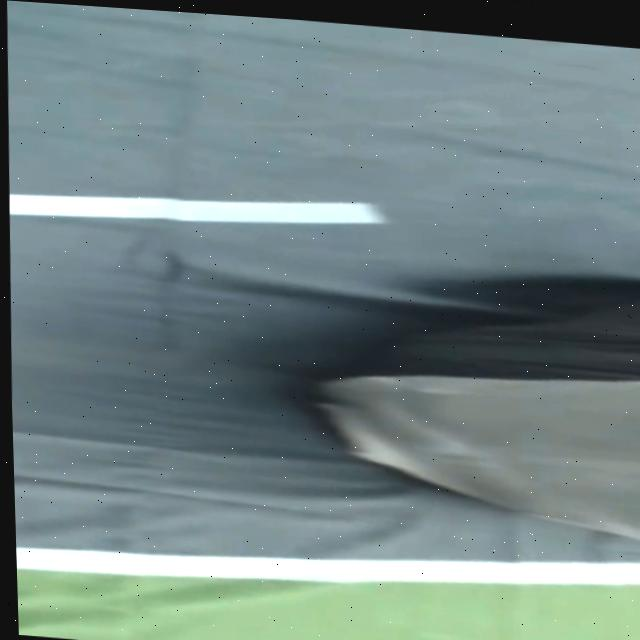center: (8, 193, 386, 222)
right: (16, 546, 640, 583)
